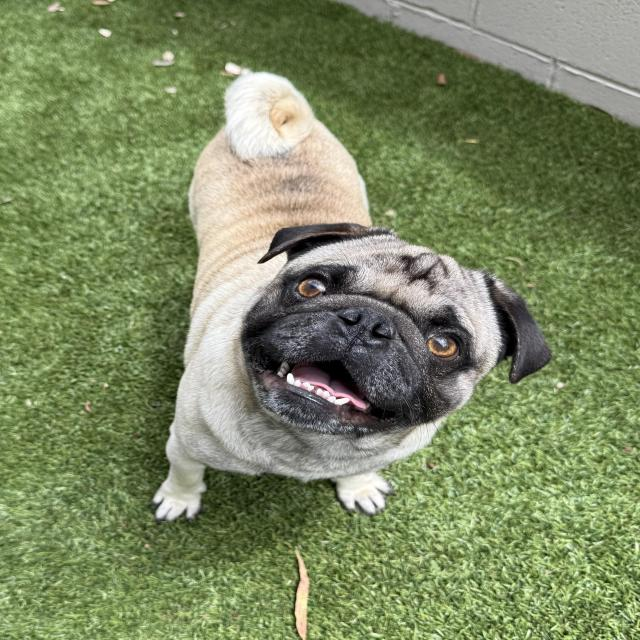pug_dog: (227, 217, 559, 461)
